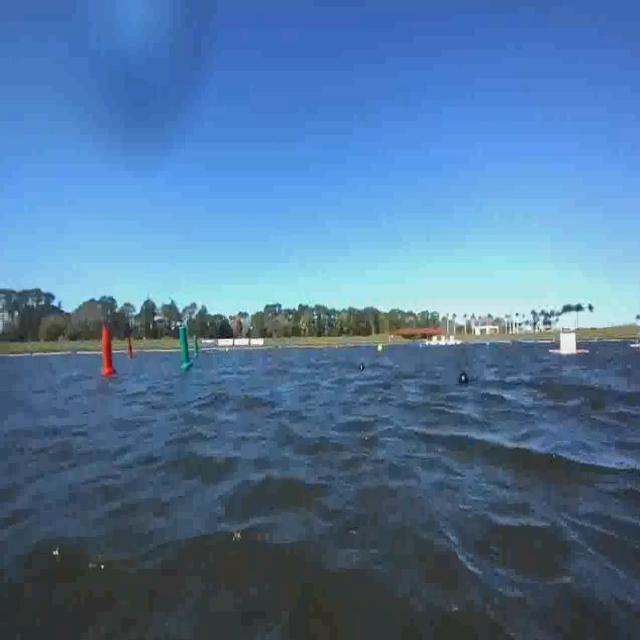black-buoy: (458, 372, 469, 387)
green-column-buoy: (178, 327, 192, 370), (192, 336, 198, 356)
red-column-buoy: (100, 324, 116, 376), (128, 337, 136, 361)
yellow-buoy: (377, 342, 386, 356)
